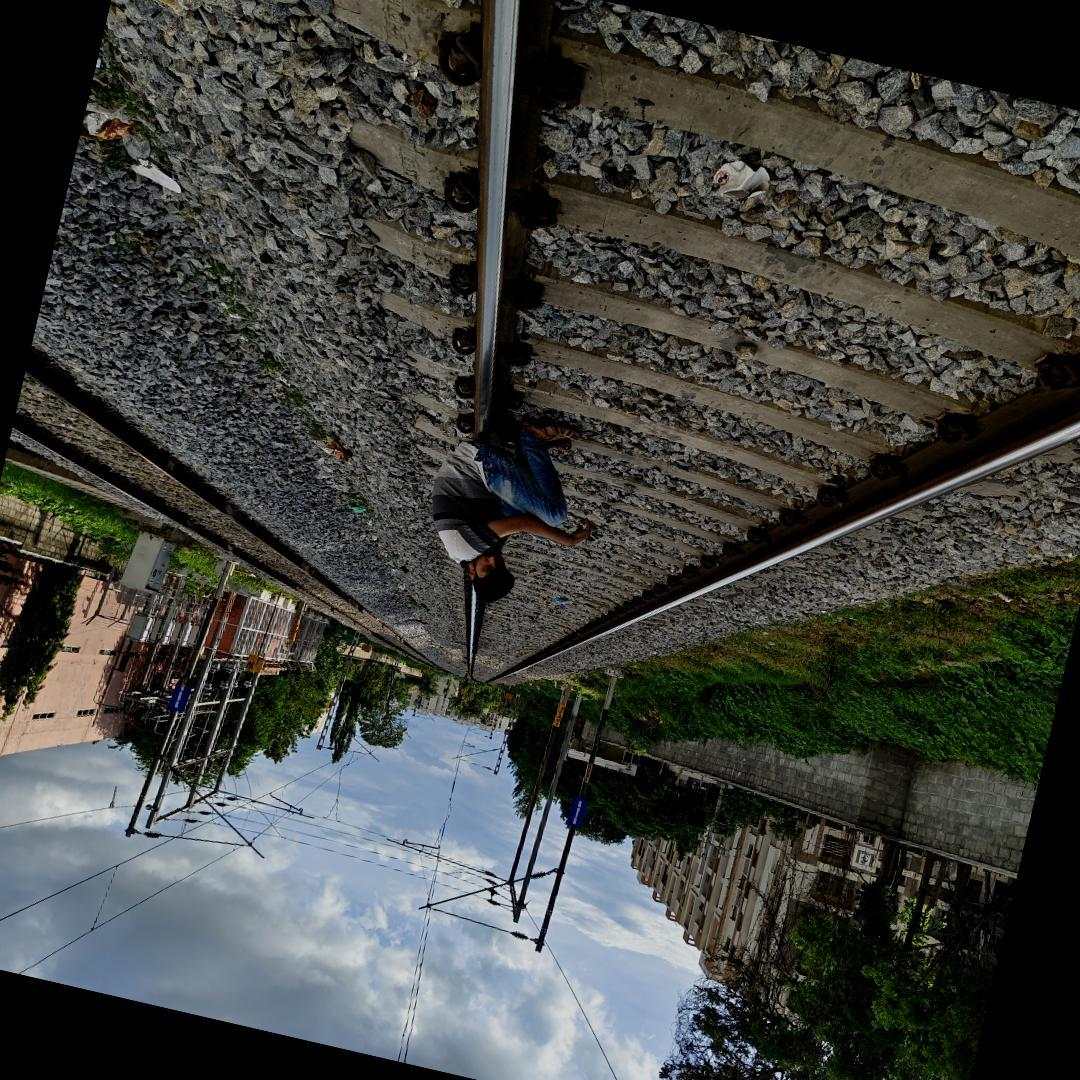sitting: (399, 388, 638, 646)
